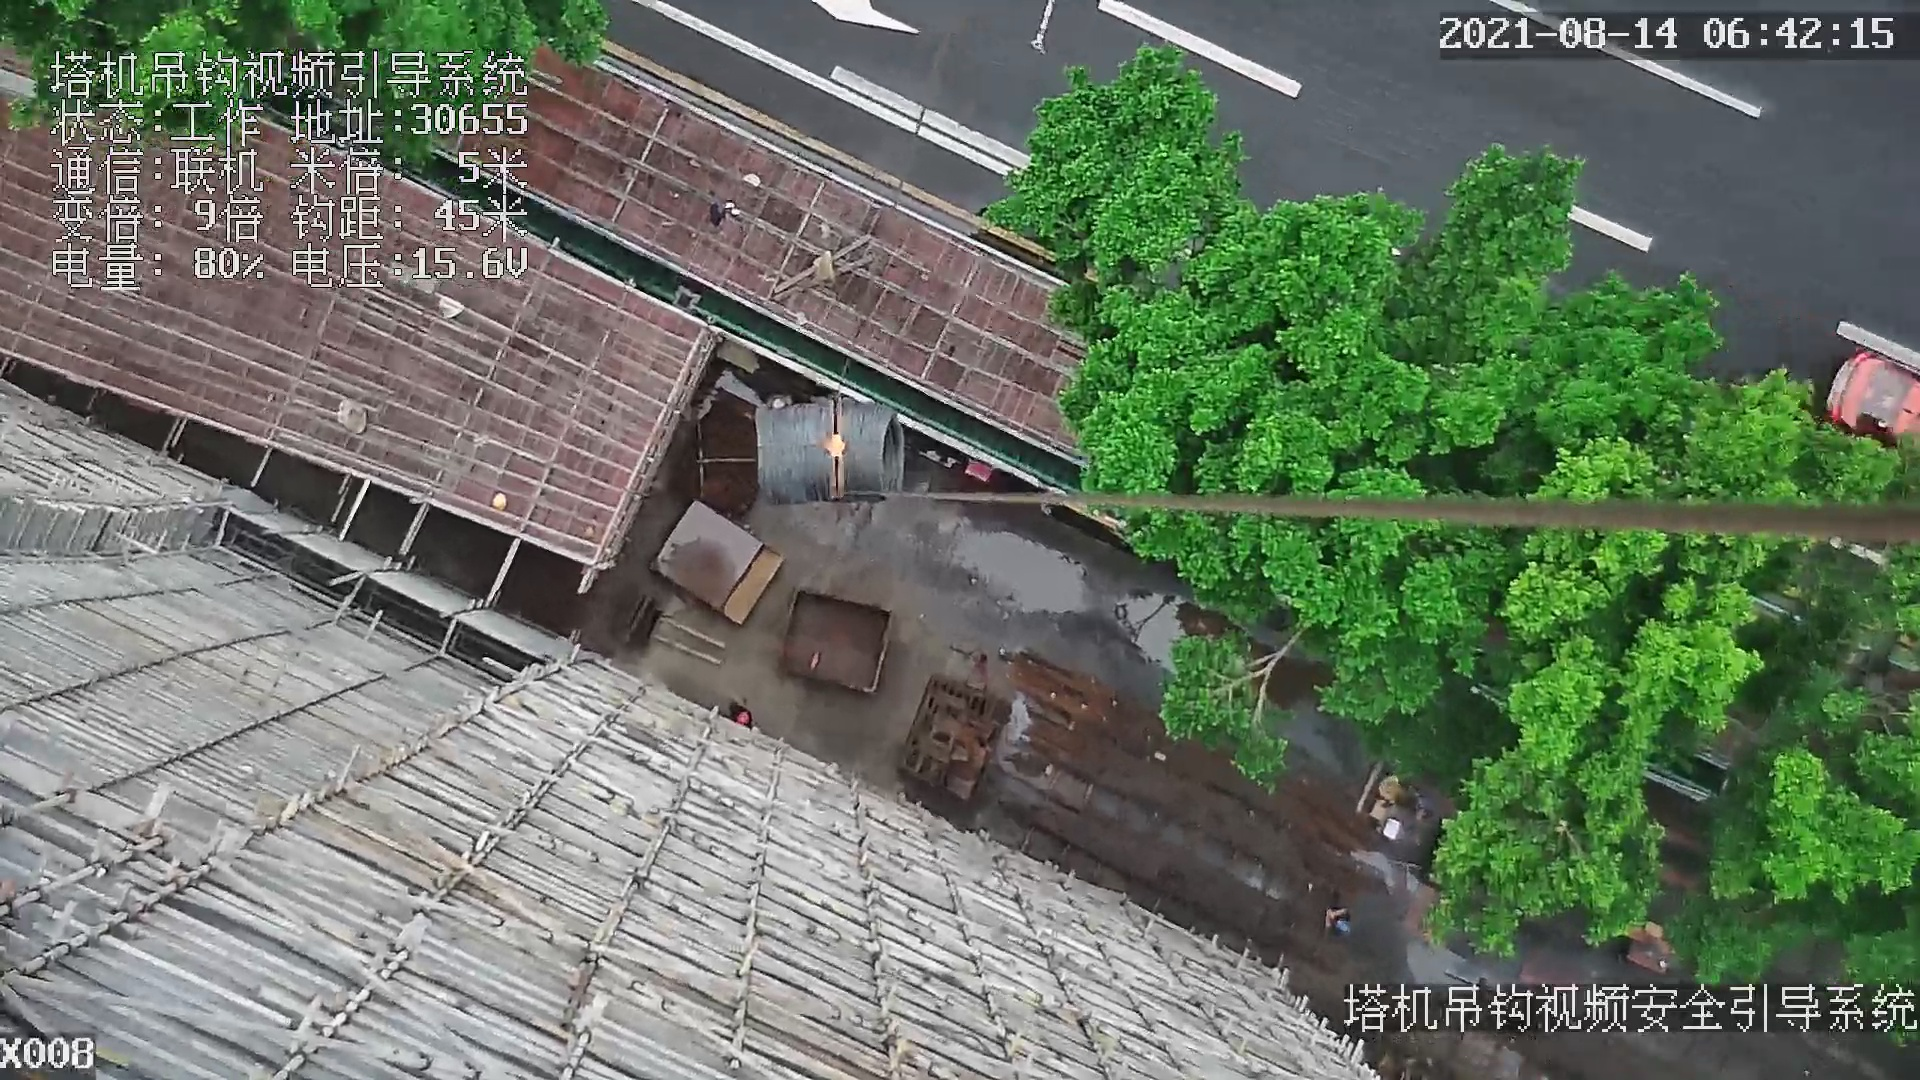hook: (809, 389, 849, 500)
person: (1322, 883, 1354, 941)
